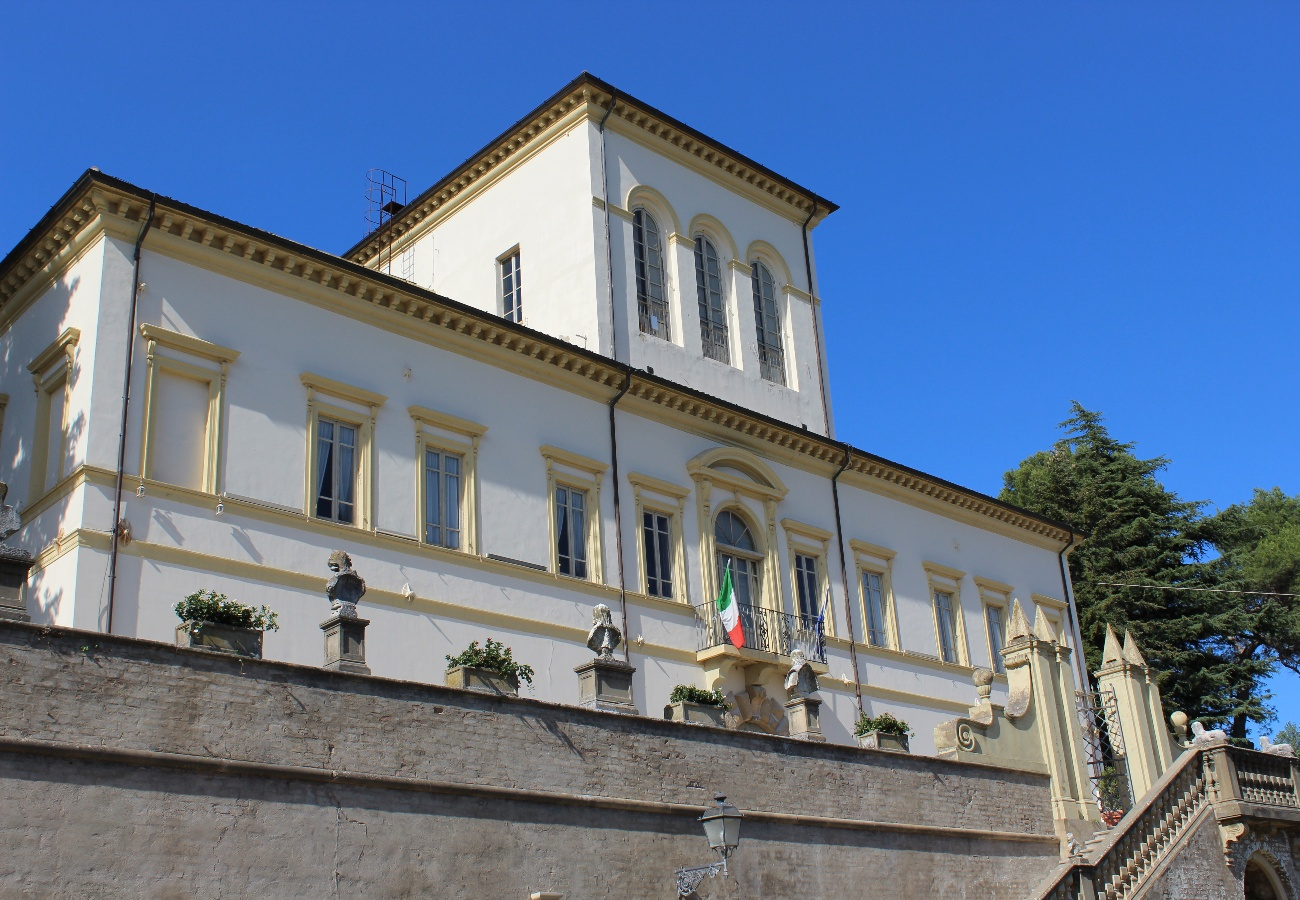Villa Caprile: (13, 74, 1106, 794)
